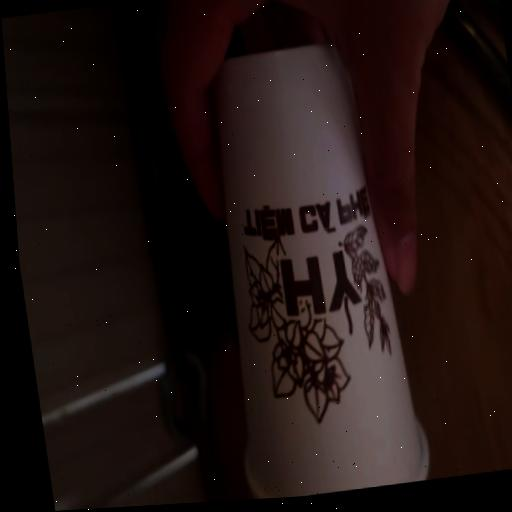Ly_giay: (216, 42, 428, 499)
